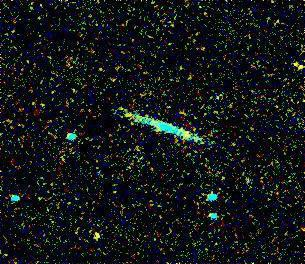star: (174, 121, 204, 151)
